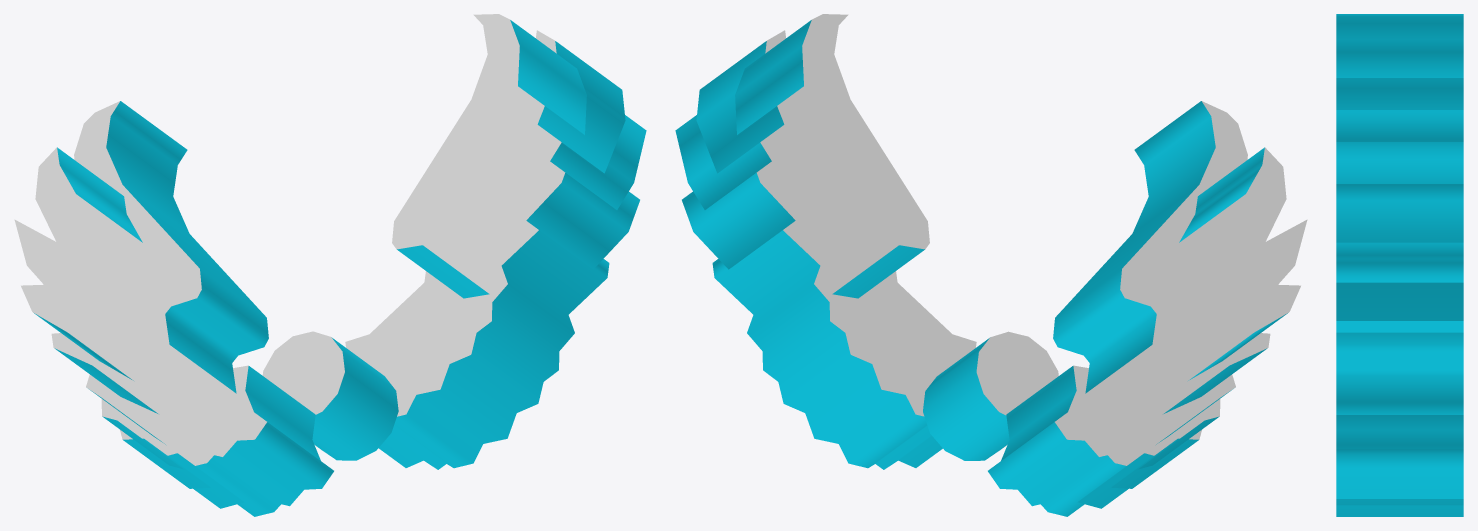
File: ps2_save-icons_coldwinter.glb
3 views of the same model, side by side, from view 1: azimuth 30°, elevation 25°; view 2: azimuth 150°, elevation 25°; view 3: azimuth 270°, elevation 25° (orthographic). The views are drawn at different scales.
Parts seen in each view (by area): view 1: ViewIcon; view 2: ViewIcon; view 3: ViewIcon.
Part boxes in pixels (left/top/right/bottom): ViewIcon: left=14, top=14, right=646, bottom=516; ViewIcon: left=675, top=14, right=1307, bottom=516; ViewIcon: left=1336, top=14, right=1463, bottom=516.
Bounding box in the file's own units: 5 × 3.24 × 1.03.
Materials: 1 (1 with a texture image).
